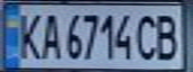1: (100, 11, 118, 60)
4: (112, 10, 136, 61)
6: (60, 10, 84, 61)
7: (81, 10, 100, 61)
A: (36, 9, 63, 61)
B: (151, 10, 184, 62)
C: (133, 10, 160, 62)
K: (15, 9, 45, 61)
